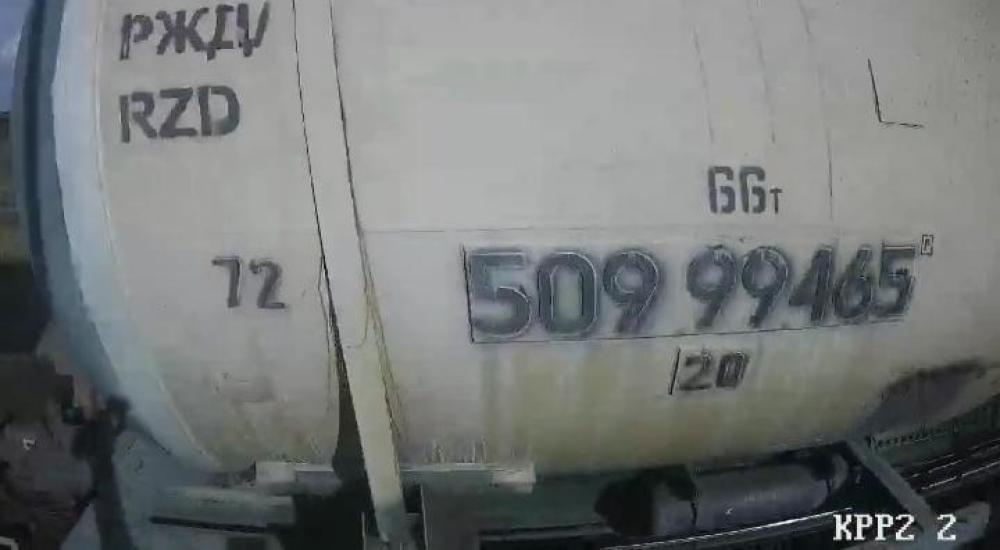Wagon-number: (462, 237, 923, 343)
